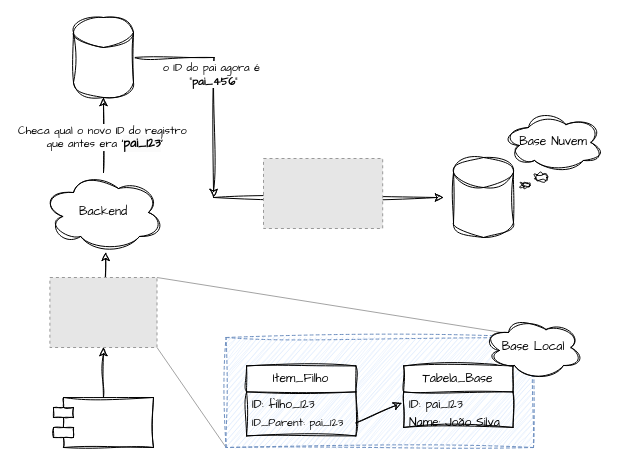
This 621x466 diagram has some shape labels left out. Grey dashed boxes stand in for pictures. The shapes that lost their labels are listed below. From the top down, each one's centre as x and y in pixels, then its label:
At point 103,57: "tabela de relação".
At point 483,197: "tabela x".
At point 103,422: "Migrador".
